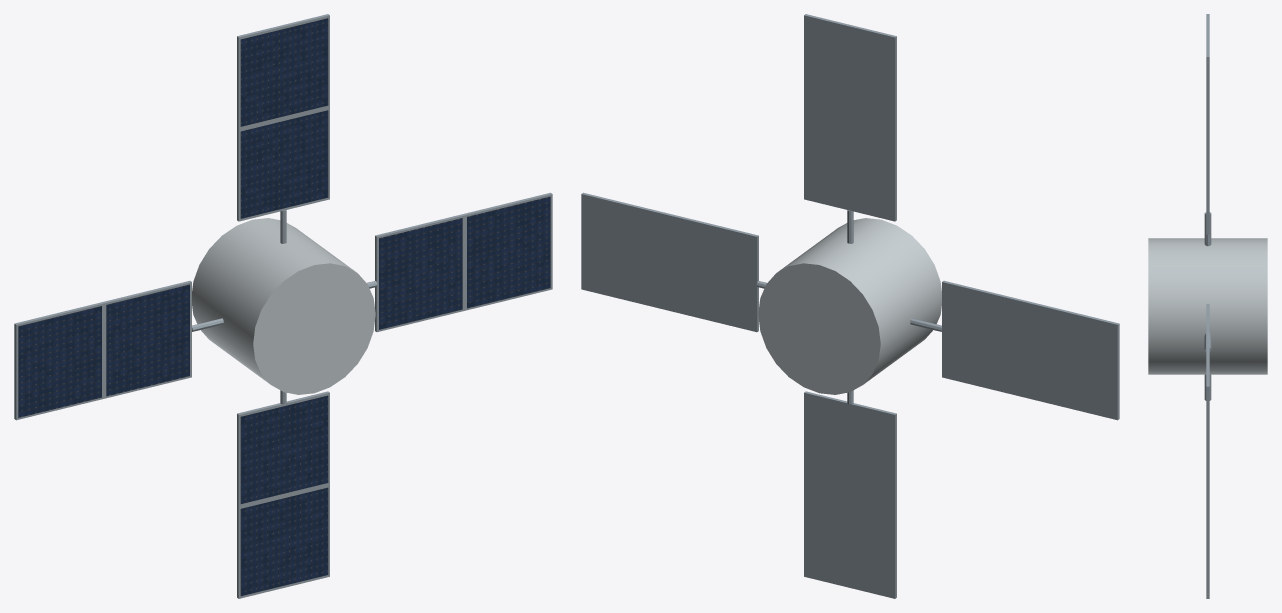
File: ref-d-2-5128.glb
3 renders of one model, left to right at view 1: azimuth 30°, elevation 25°; view 2: azimuth 150°, elevation 25°; view 3: azimuth 270°, elevation 25°, orthographic. The views are drawn at different scales.
Visible parts, largest first — view 1: Photovoltaic laminates (×8), Spacecraft body, Array frame (×8); view 2: Array frame (×8), Spacecraft body; view 3: Spacecraft body, Array frame (×4), Solar array drive.
Boxes of the visible parts, box(x1,y1,x2,y2) form: Photovoltaic laminates (×8): box(18, 18, 550, 595); Spacecraft body: box(192, 218, 375, 394); Array frame (×8): box(14, 14, 552, 598); Array frame (×8): box(581, 14, 1119, 598); Spacecraft body: box(758, 218, 941, 394); Spacecraft body: box(1148, 238, 1267, 374); Array frame (×4): box(1206, 14, 1209, 598); Solar array drive: box(1204, 212, 1211, 246).
Bounding box in the file's own units: 3.5 × 3.5 × 0.7.
3 materials, 1 textured.
